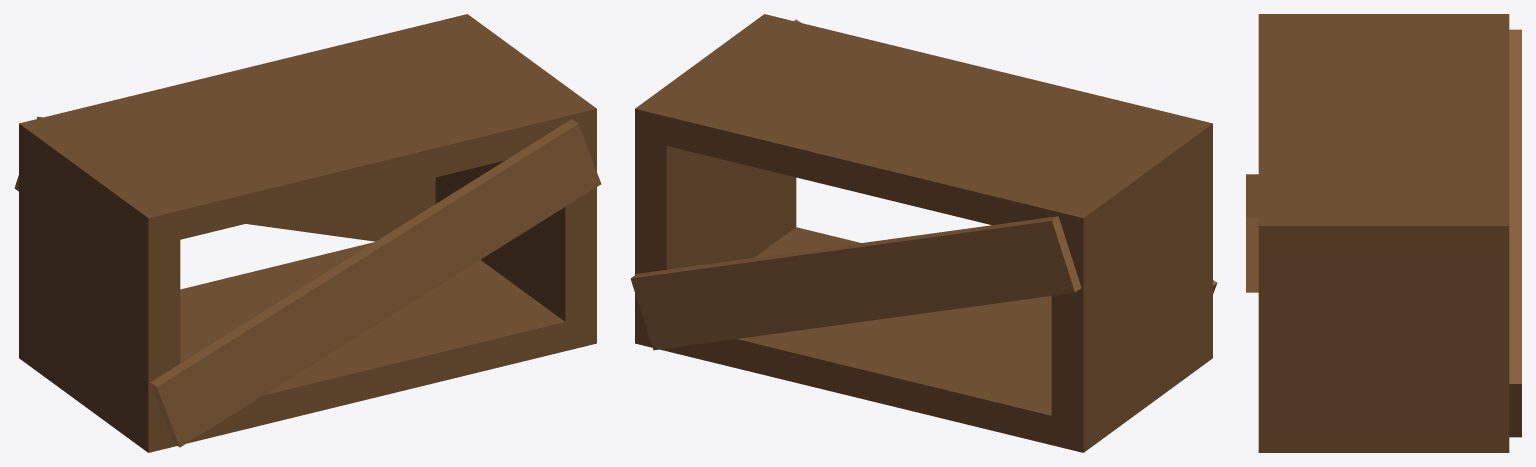
Rendered from PlateformBois_1x2.fbx.
The picture shows the model from 3 angles, left to right: view 1: azimuth 30°, elevation 25°; view 2: azimuth 150°, elevation 25°; view 3: azimuth 270°, elevation 25°; orthographic projection. The views are drawn at different scales.
Visible parts, largest first — view 1: pCube1, pCube2, pasted__pCube2; view 2: pCube1, pasted__pCube2; view 3: pCube1, pasted__pCube2, pCube2.
Part boxes in pixels (<box>): pCube1: <box>19,14,596,452</box>; pCube2: <box>150,119,601,447</box>; pasted__pCube2: <box>14,116,435,241</box>; pCube1: <box>635,14,1212,452</box>; pasted__pCube2: <box>630,216,1081,350</box>; pCube1: <box>1258,14,1509,452</box>; pasted__pCube2: <box>1509,29,1521,437</box>; pCube2: <box>1246,174,1258,292</box>.
Bounding box in the file's own units: 2 × 1 × 1.1.
